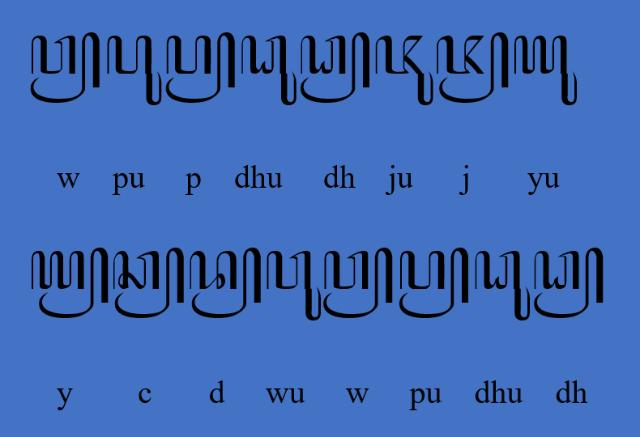-c: (112, 246, 186, 320)
-d: (189, 247, 263, 319)
-dh: (299, 32, 371, 104), (534, 246, 604, 320)
-j: (436, 32, 510, 104)
-p: (398, 248, 469, 320), (166, 31, 236, 104)
-w: (30, 31, 100, 104), (323, 248, 393, 320)
-y: (29, 246, 109, 320)
dhu: (240, 34, 298, 106), (474, 250, 530, 322)
ju: (376, 34, 434, 106)
pu: (106, 36, 162, 106)
wu: (266, 250, 322, 322)
yu: (514, 36, 578, 106)
